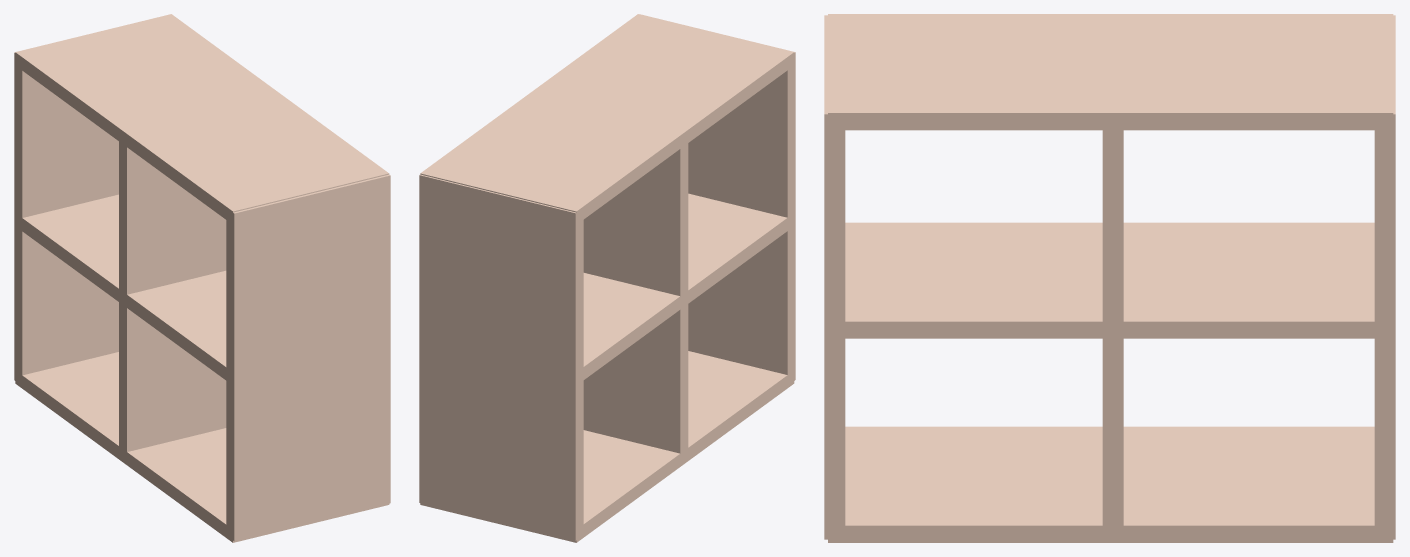
The model's file is Cabnit3.glb.
The picture shows the model from 3 angles, left to right: view 1: azimuth 30°, elevation 25°; view 2: azimuth 150°, elevation 25°; view 3: azimuth 270°, elevation 25°; orthographic projection. The views are drawn at different scales.
Visible parts, largest first — view 1: BoxCabnit1; view 2: BoxCabnit1; view 3: BoxCabnit1.
Boxes of the visible parts, x1,y1,x2,y2 form: BoxCabnit1: [14, 14, 390, 542]; BoxCabnit1: [419, 14, 795, 542]; BoxCabnit1: [824, 14, 1395, 542].
Bounding box in the file's own units: 0.3306 × 0.67 × 0.8064.
1 material, 1 textured.
